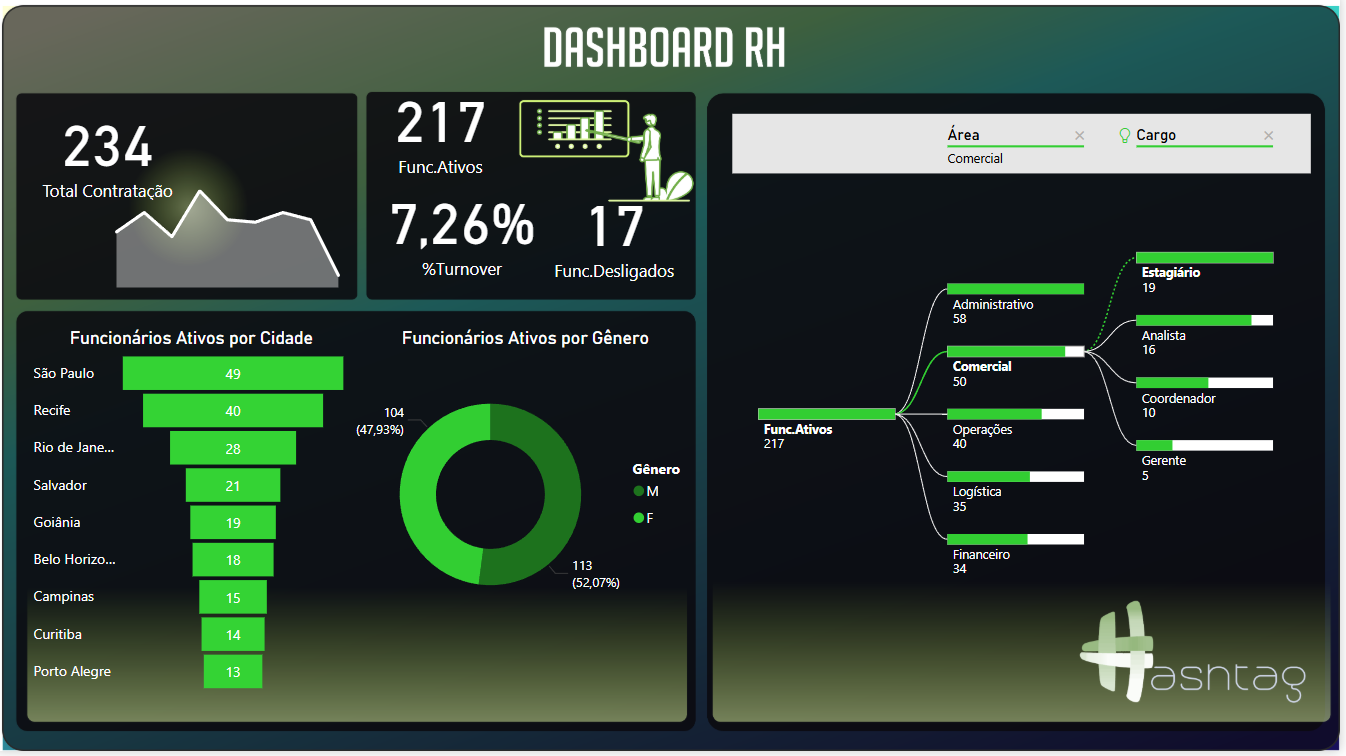

The page's visual inventory and layout, read from the dashboard file:
{"tool":"powerbi","page":{"name":"Página 1","canvas":[1280,720],"ordinal":0},"visuals":[{"type":"card","fields":{"Values":["Plan1.Total Contratações"]},"box":[359.5,68.8,127.9,111],"z":0},{"type":"card","fields":{"Values":["Plan1.Total Contratação"]},"box":[29,95.3,155.6,105],"z":1000},{"type":"card","fields":{"Values":["Plan1.Func.Desligados"]},"box":[524.8,167.7,127.9,112.2],"z":2000},{"type":"lineChart","fields":{"Category":["Plan1.Data de Contratacao.Variation.Hierarquia de datas.Ano"],"Y":["Plan1.Total Contratação"]},"box":[100.1,172.5,241.3,112.2],"z":3000},{"type":"card","fields":{"Values":["Plan1.%Turnover"]},"box":[363.1,167.7,161.7,108.6],"z":4000},{"type":"funnel","title":"Funcionários Ativos por Cidade","fields":{"Y":["Plan1.Func.Ativos"],"Category":["Plan1.Cidade"]},"box":[31.4,316.1,310.1,352.3],"z":5000},{"type":"donutChart","title":"Funcionários Ativos por Gênero","fields":{"Y":["Plan1.Func.Ativos"],"Category":["Plan1.Genero"]},"box":[330.6,316.1,346.2,299.2],"z":6000},{"type":"decompositionTreeVisual","fields":{"Analyze":["Plan1.Func.Ativos"],"ExplainBy":["Plan1.Área","Plan1.Cargo"]},"box":[696.1,108.6,561,559.8],"z":7000}]}

Visuals, with their boxes in screenshot pixels (x1, y1, x2, y2), scaled from the page's 1280x720 canvas onto the 1346x756 screenshot:
card - Plan1.Total Contratações: box(378, 72, 513, 189)
card - Plan1.Total Contratação: box(30, 100, 194, 210)
card - Plan1.Func.Desligados: box(552, 176, 686, 294)
lineChart - Plan1.Data de Contratacao.Variation.Hierarquia de datas.Ano x Plan1.Total Contratação: box(105, 181, 359, 299)
card - Plan1.%Turnover: box(382, 176, 552, 290)
"Funcionários Ativos por Cidade" funnel: box(33, 332, 359, 702)
"Funcionários Ativos por Gênero" donutChart: box(348, 332, 712, 646)
decompositionTreeVisual - Plan1.Func.Ativos x Plan1.Área: box(732, 114, 1322, 702)
